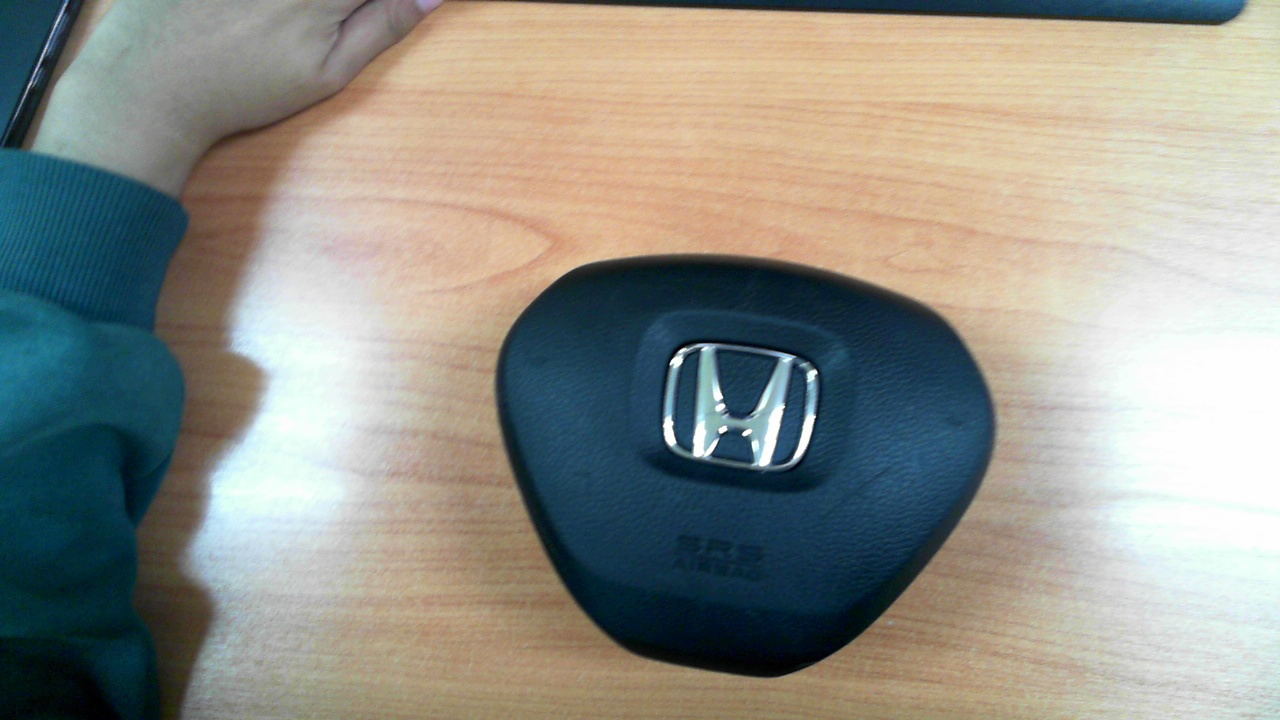Airbag: (493, 254, 998, 679)
Honda: (662, 343, 818, 467)
